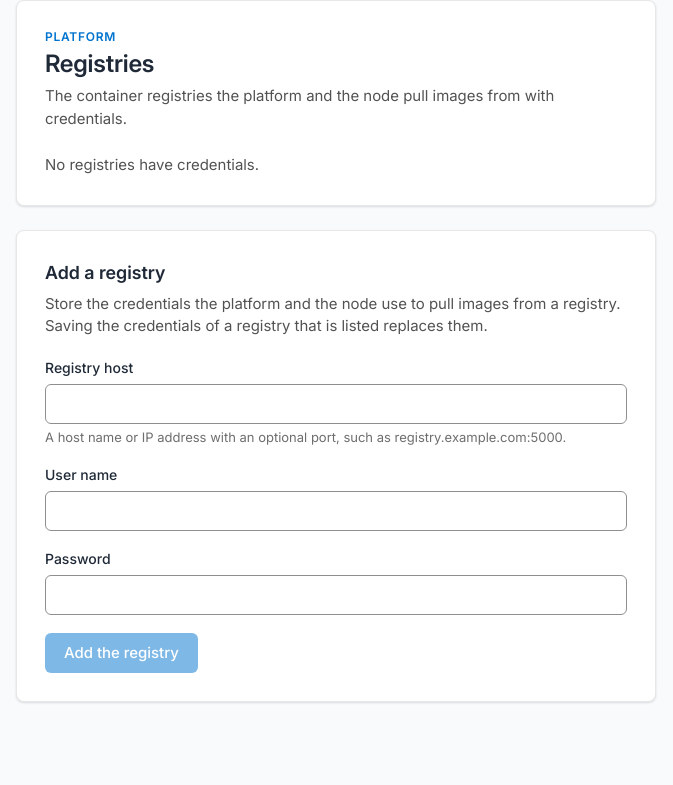
Test: RegistriesPage › adds a registry with a password and needs no restart
Expected: the text "No registries have credentials." is shown, top-left (45, 155), bottom-right (259, 174)
Expected: the button "Add the registry" is disabled, top-left (45, 633), bottom-right (198, 673)
Type " registry.example.test " into the field labelled "Registry host" at (336, 404), box top-left (45, 384), bottom-right (627, 424)
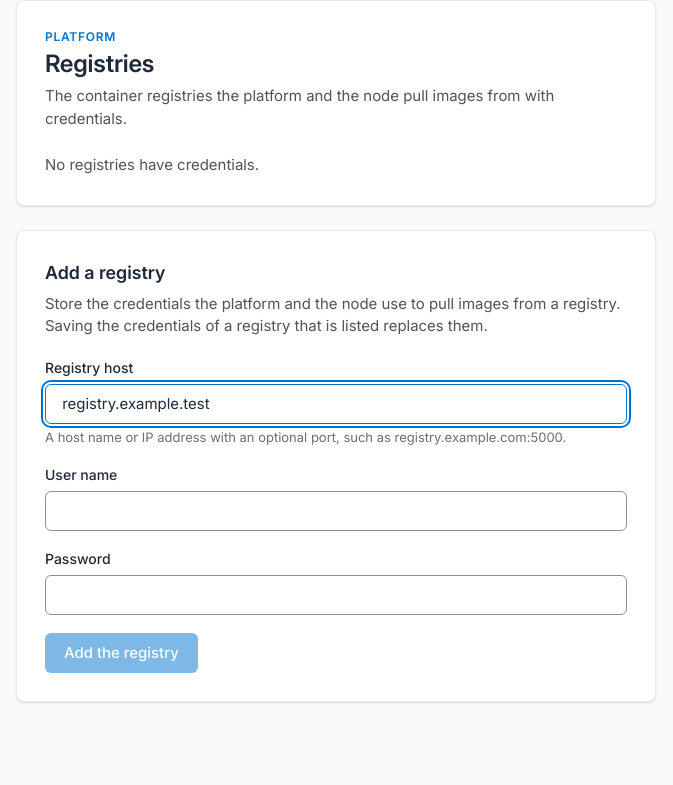
Type "puller" into the field labelled "User name" at (336, 511), box top-left (45, 491), bottom-right (627, 531)
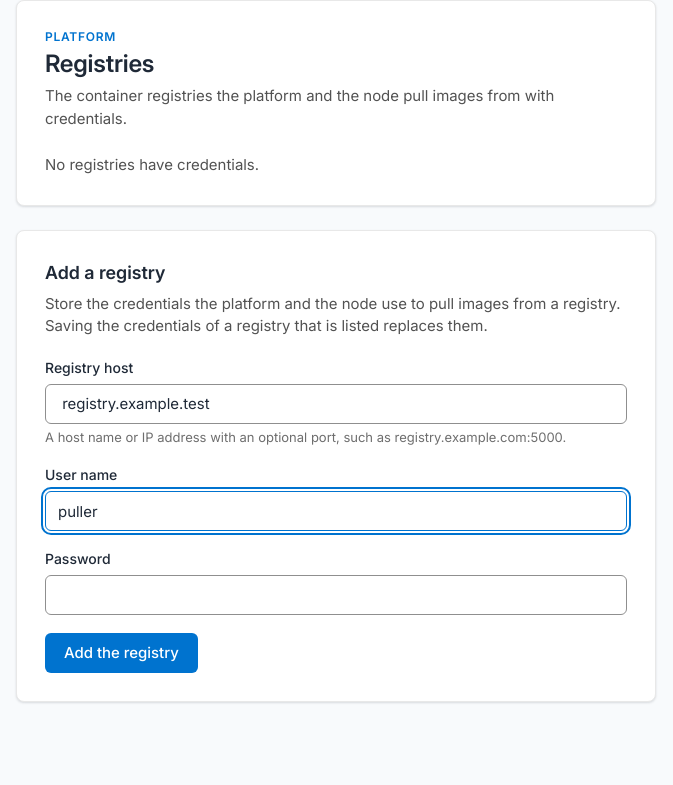
Type "s3cret" into the password field labelled "Password" at (336, 595), box top-left (45, 575), bottom-right (627, 615)
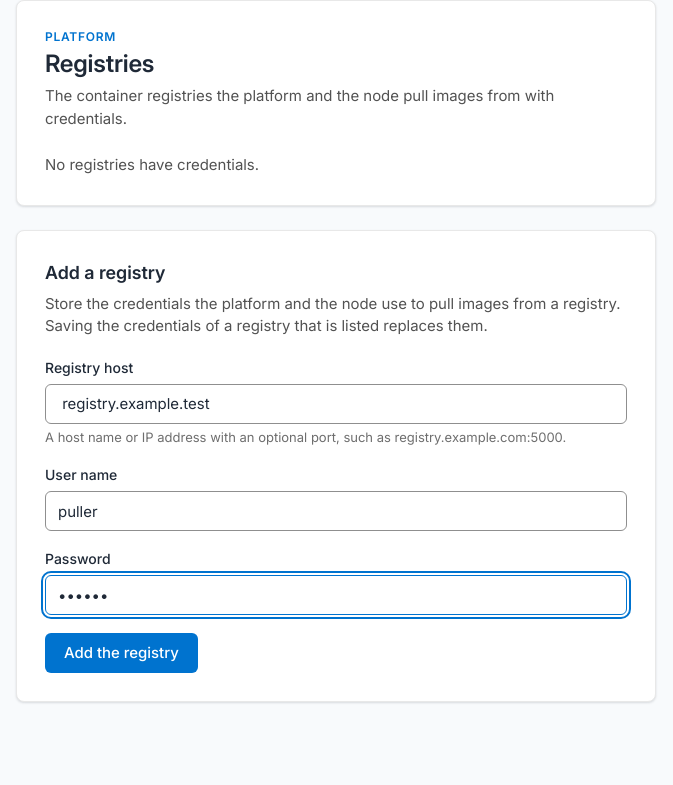
Click the button "Add the registry" at (121, 653), box top-left (45, 633), bottom-right (198, 673)
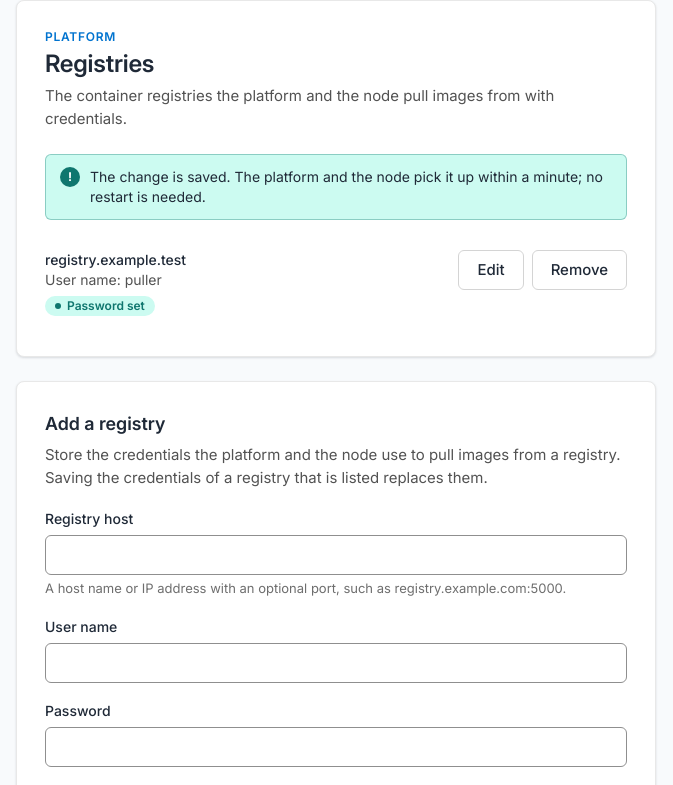
Now the text "no restart is needed" is shown, box top-left (90, 168), bottom-right (603, 205)
Now the text "Password set" is shown, box top-left (45, 296), bottom-right (155, 316)
Now the field labelled "Registry host" is empty, box top-left (45, 535), bottom-right (627, 575)
